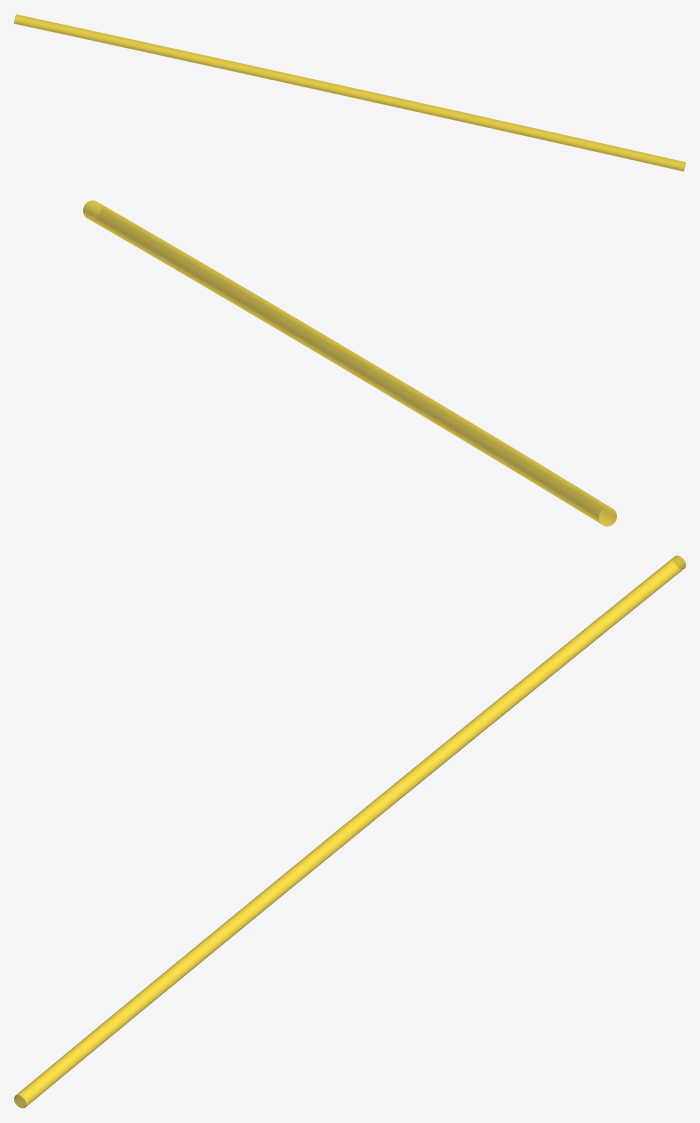
File: Event_40932208_track_17.fbx
3 renders of one model, top to bottom at view 1: azimuth 30°, elevation 25°; view 2: azimuth 150°, elevation 25°; view 3: azimuth 270°, elevation 25°, orthographic. The views are drawn at different scales.
Parts seen in each view (by area): view 1: Model; view 2: Model; view 3: Model.
Boxes of the visible parts, x1,y1,x2,y2 form: Model: (14,14,685,171); Model: (83,200,616,526); Model: (14,555,685,1108).
Bounding box in the file's own units: 2.21 × 0.5368 × 1.71.
